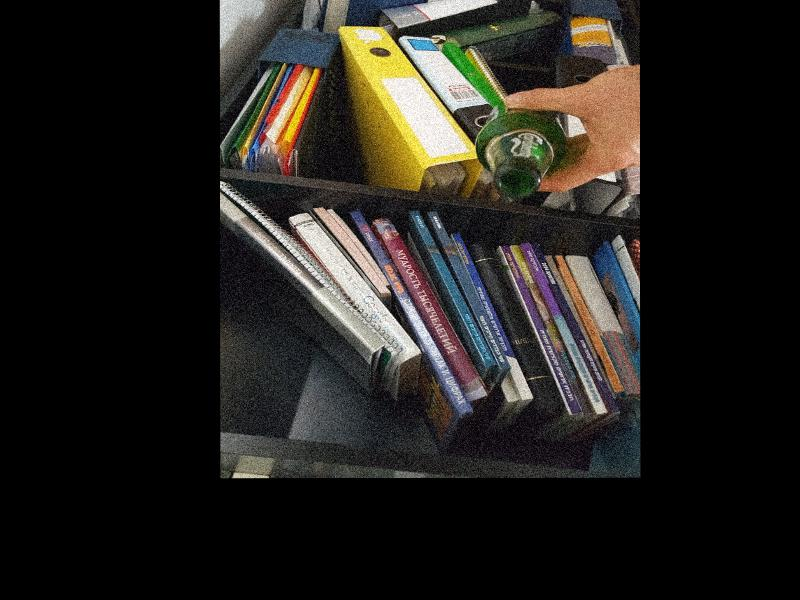Beer: (476, 100, 563, 195)
